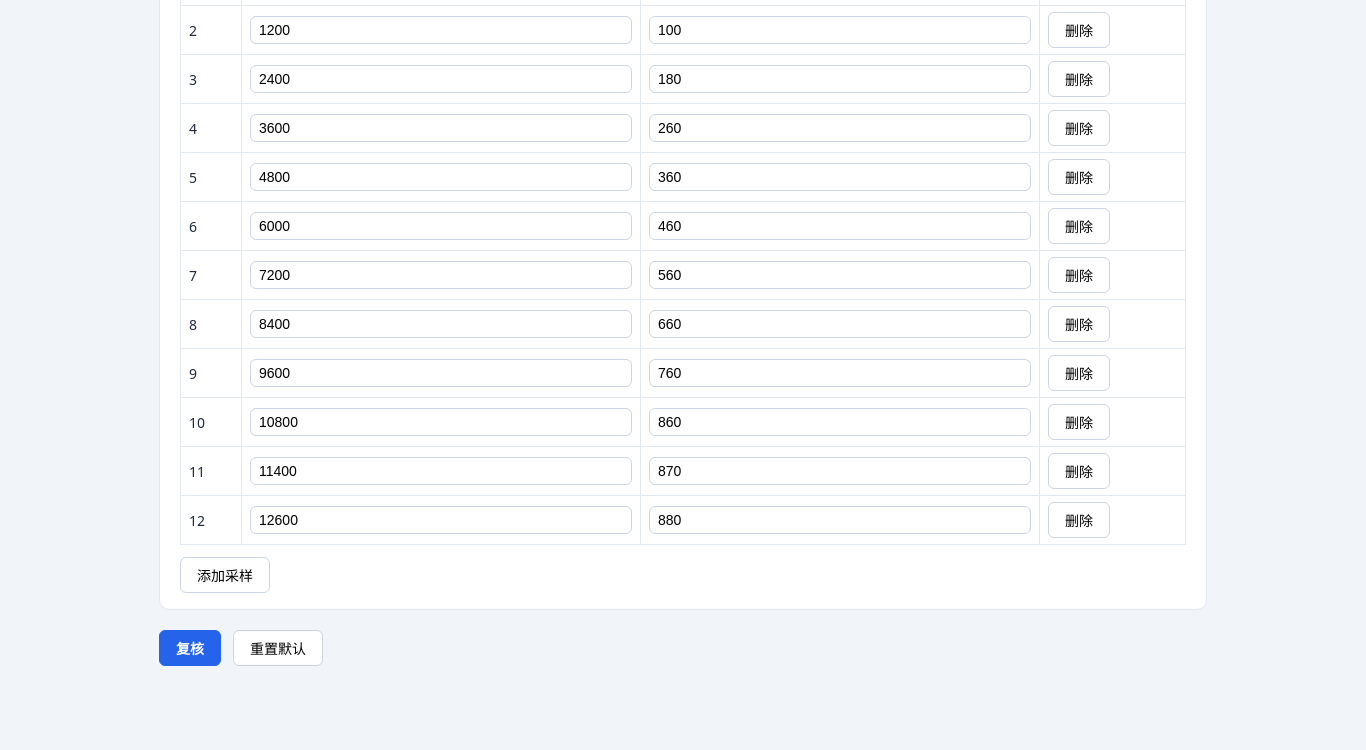
Test: 复核台 › 返烧结论：违规定位列表与图中红色标记
This screenshot has width=1366, height=750.
(page scrolled)
Click the button with test id "adjudicate-button": (190, 648) [159, 630, 221, 666]
(page scrolled)
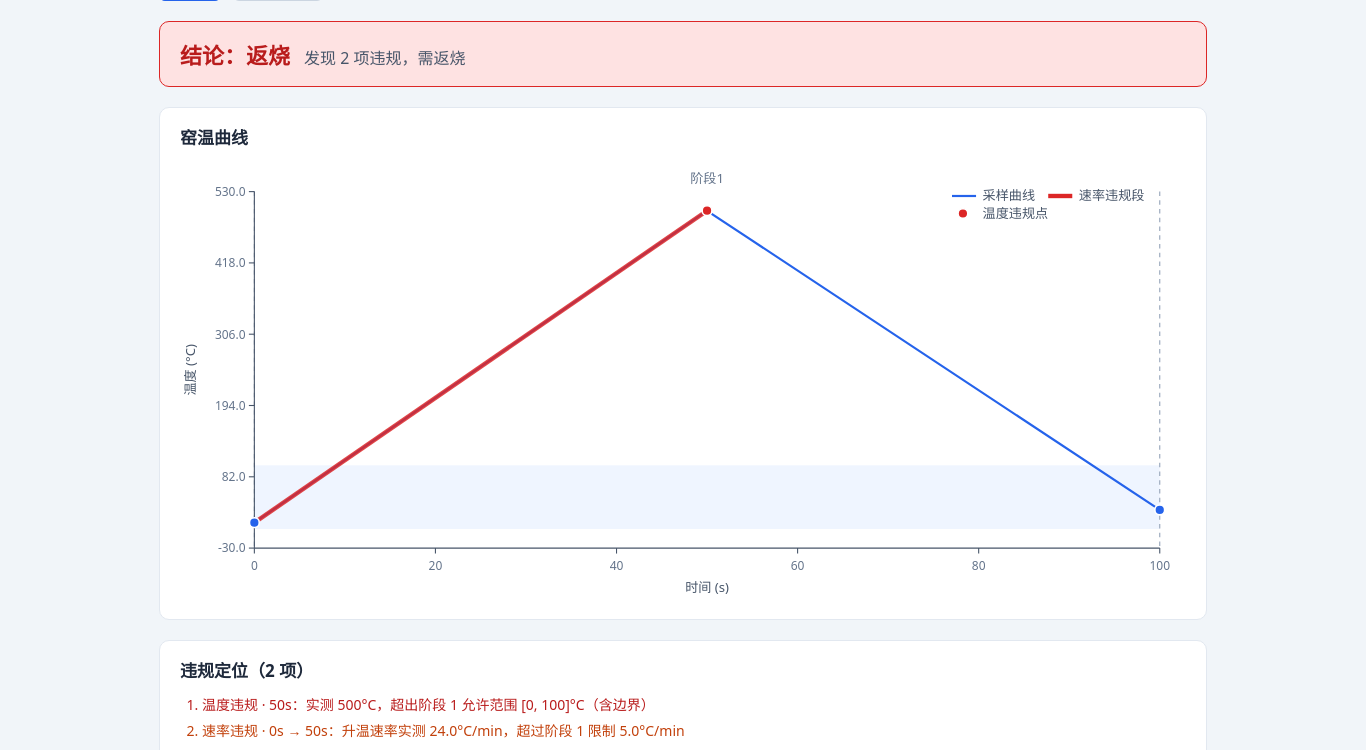
Result: the element with test id "conclusion-banner" shows "结论：返烧" at [159, 21, 1207, 87]
Result: the number of list items is 2 at [202, 695, 655, 714]; [202, 721, 685, 740]
Result: the list item "温度违规 · 50s：实测 500°C，超出阶段 1 允许范围 [0, 100]°C（含边界）" is shown at [202, 695, 655, 714]
